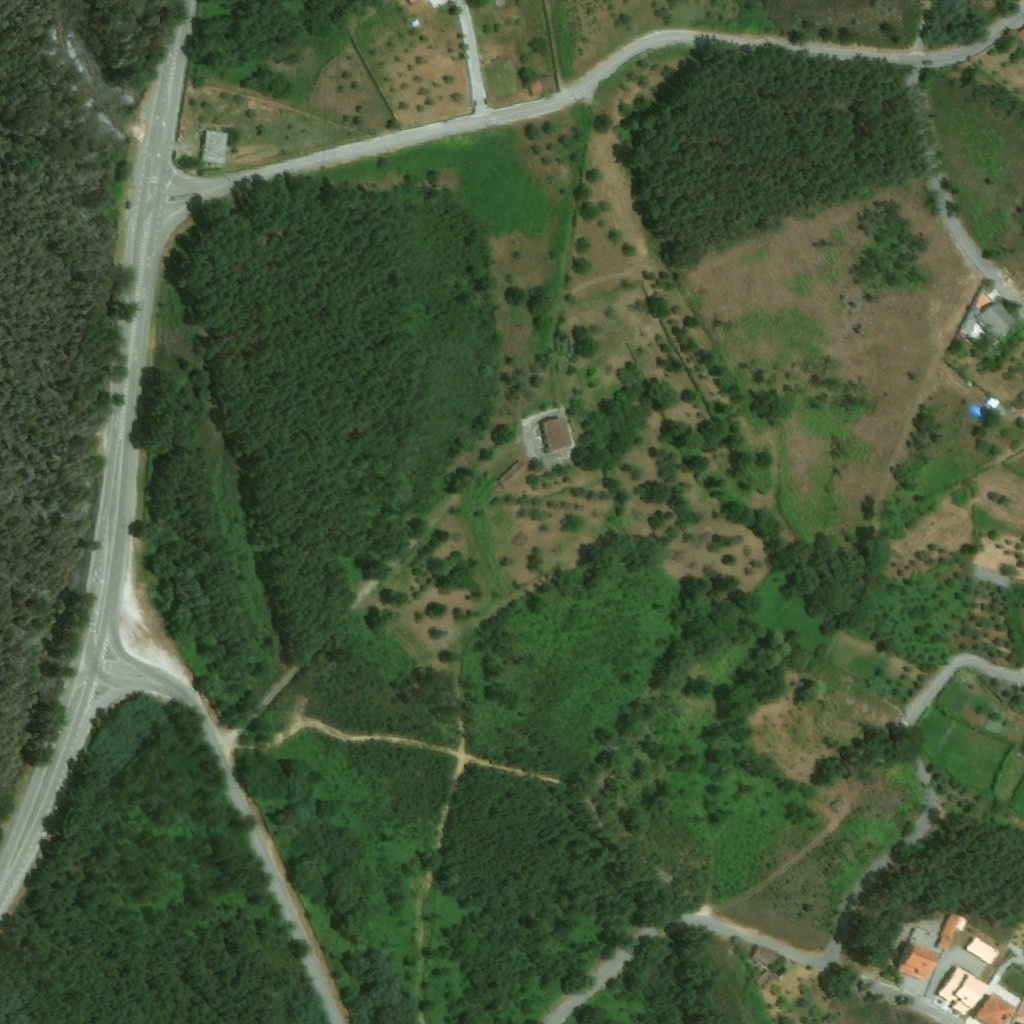0 no-damage: (935, 963, 990, 1017), (894, 940, 940, 982), (977, 299, 1019, 340), (973, 991, 1017, 1023), (539, 416, 574, 454), (958, 309, 991, 347), (936, 911, 961, 953), (964, 935, 999, 965), (200, 131, 227, 163), (748, 945, 779, 968), (986, 396, 1006, 415), (986, 289, 1001, 302), (410, 20, 420, 29), (407, 0, 422, 5), (1018, 399, 1023, 410)
4 un-classified: (1014, 27, 1023, 44)
